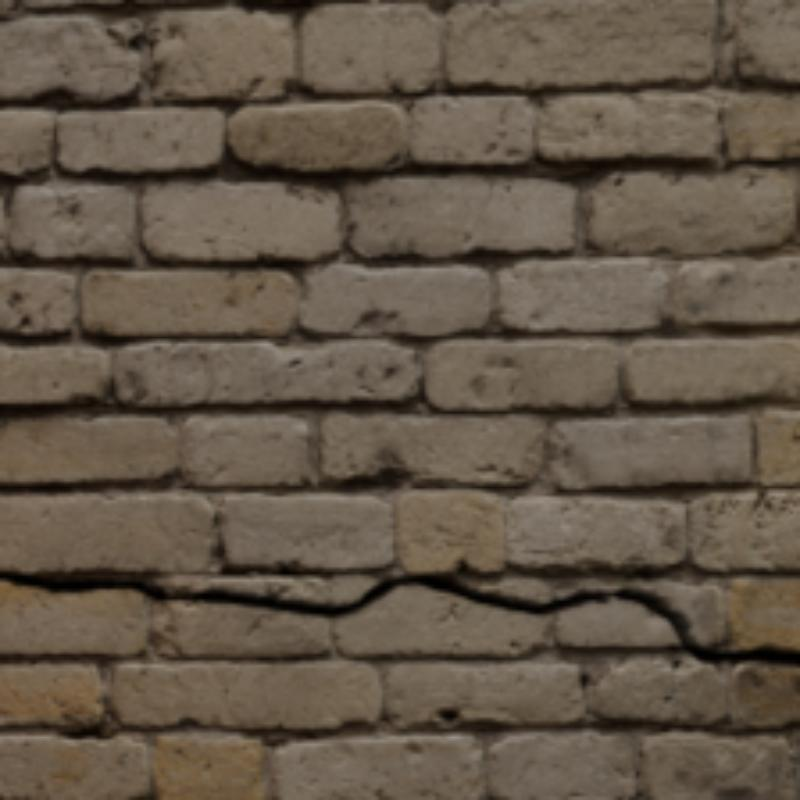pothole: (0, 571, 796, 664)
